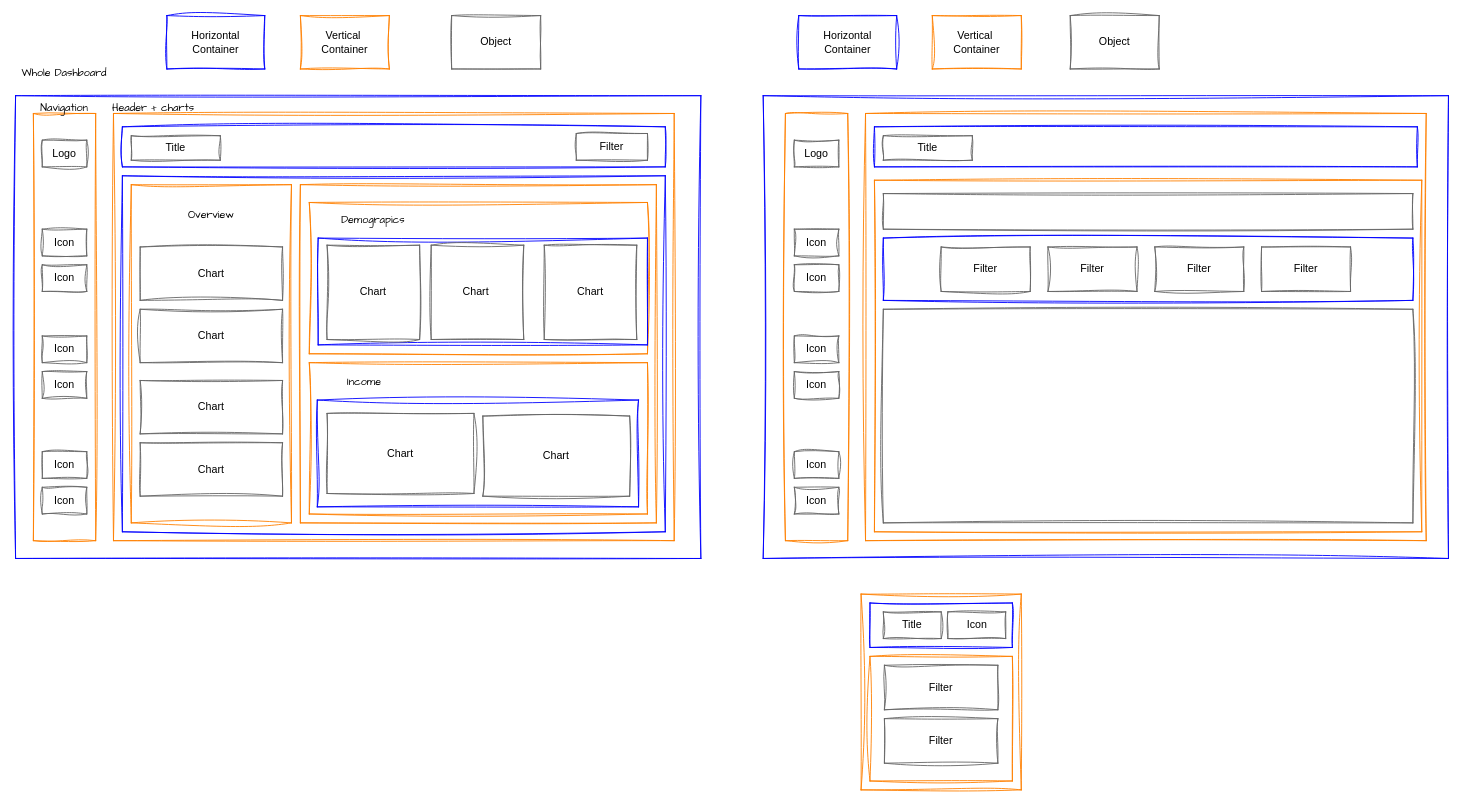
Some shapes in this 1464 by 805 pixel diagram are drawn without their labels. Here are the shapes that lost their labels. From the top down, the box of each, then its label:
(882, 193, 1413, 229): Employee List
(882, 308, 1413, 523): List/Chart
